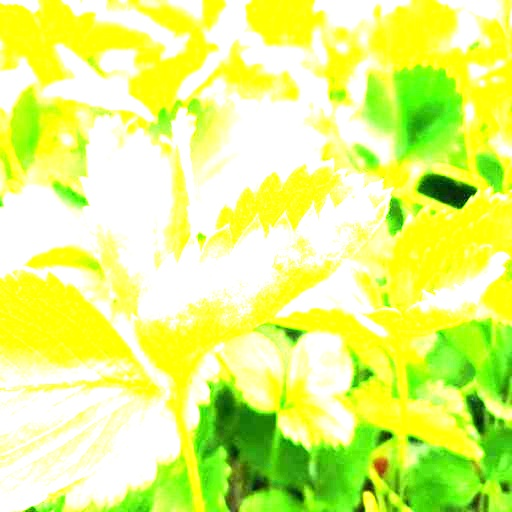Powdery Mildew Leaf: (129, 154, 396, 385), (78, 104, 196, 324)
